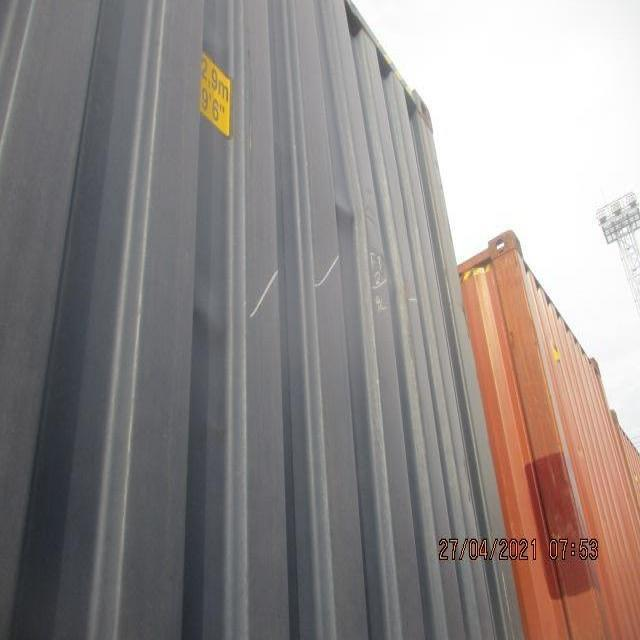Minor-Dent: (304, 169, 409, 304)
